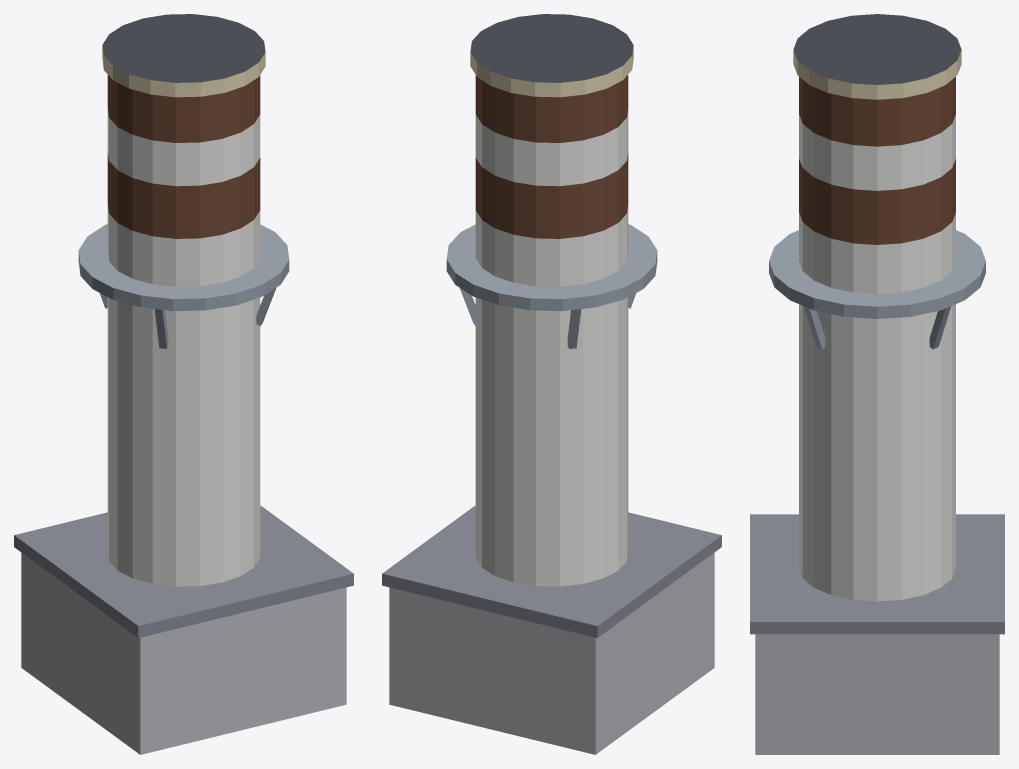
File: SmokeStack.fbx
The picture shows the model from 3 angles, left to right: view 1: azimuth 30°, elevation 25°; view 2: azimuth 150°, elevation 25°; view 3: azimuth 270°, elevation 25°; orthographic projection. The views are drawn at different scales.
Visible parts, largest first — view 1: SmokeStack; view 2: SmokeStack; view 3: SmokeStack.
Boxes of the visible parts, x1,y1,x2,y2 form: SmokeStack: (14,14,353,754); SmokeStack: (382,14,721,754); SmokeStack: (750,14,1004,754).
Bounding box in the file's own units: 9.4 × 26.6 × 9.4.
1 material, 1 textured.
